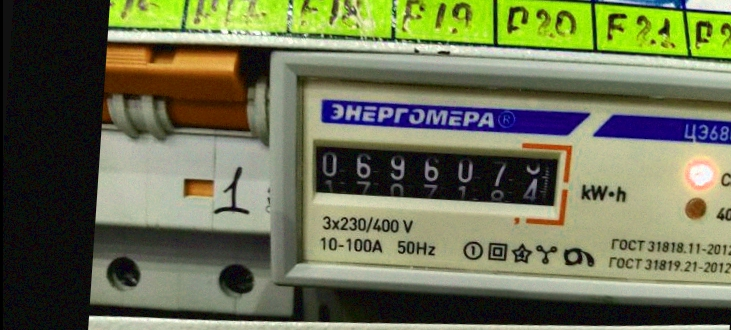0: (456, 153, 476, 184), (321, 148, 340, 177)
4: (522, 173, 541, 203)
6: (423, 152, 442, 182), (355, 150, 374, 179)
7: (490, 157, 511, 189)
9: (388, 152, 408, 181)
screen: (297, 123, 579, 225)
